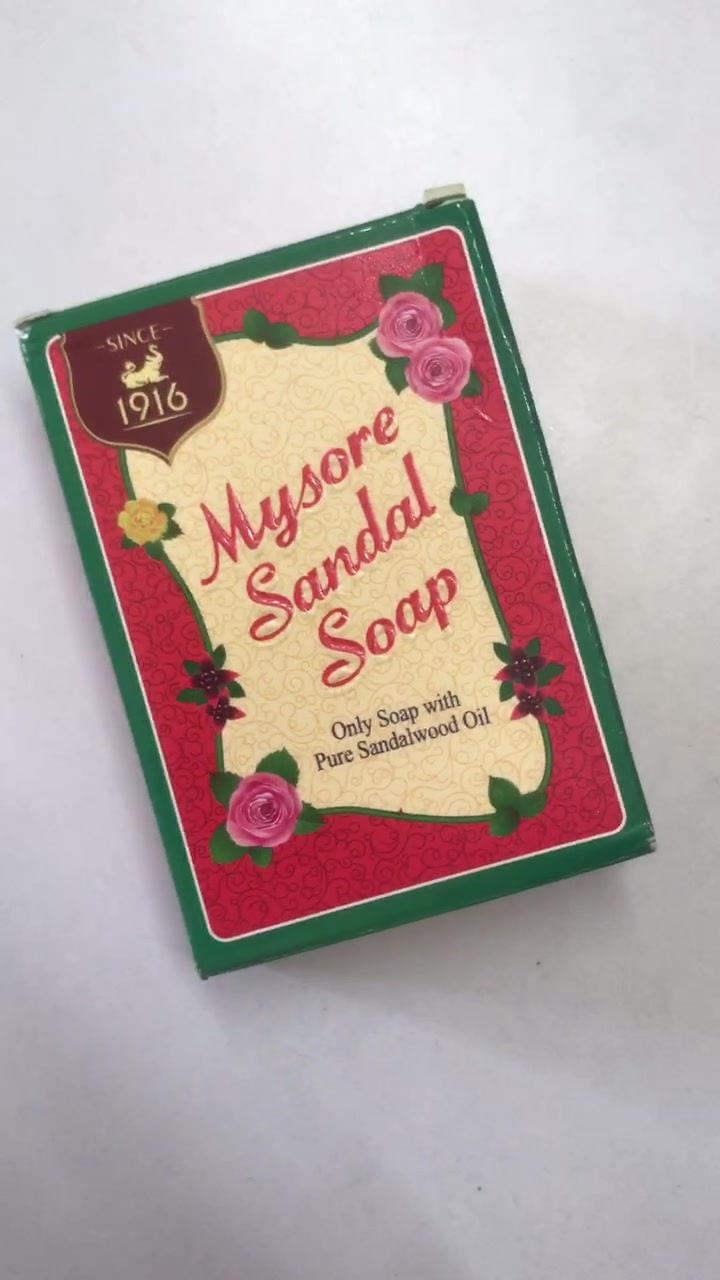mysore sandal soap: (23, 207, 655, 980)
